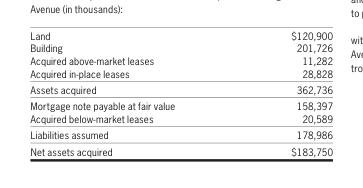table: (29, 28, 332, 156)
table column: (29, 28, 232, 156), (232, 28, 332, 156)
table row: (29, 81, 332, 97), (29, 126, 332, 142), (29, 66, 332, 81), (29, 111, 332, 126), (29, 97, 332, 111), (29, 142, 332, 156), (29, 28, 332, 41), (29, 53, 332, 66), (29, 41, 332, 53)
